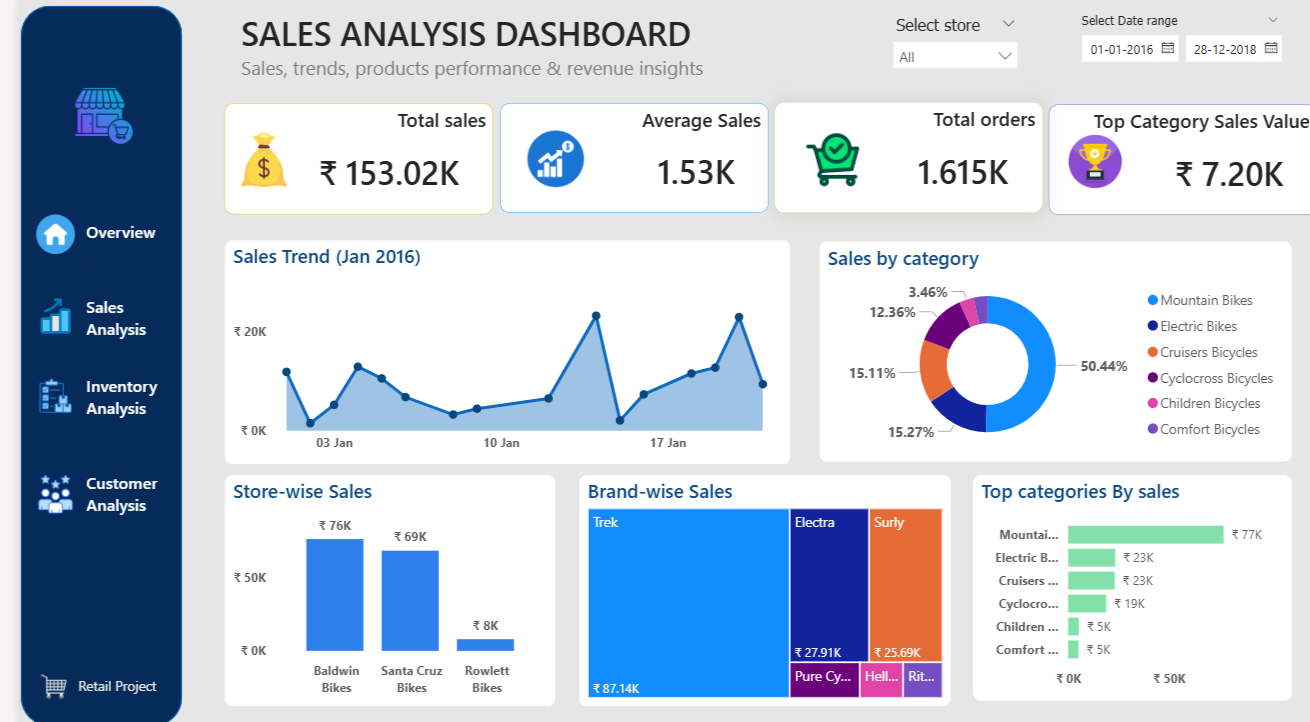

This screenshot's page, from the dashboard's own definition file:
{"tool":"powerbi","page":{"name":"Sales Analysis","canvas":[1280,720],"ordinal":1},"visuals":[{"type":"textbox","box":[211.6,11.6,482.5,87.7],"z":0},{"type":"slicer","fields":{"Values":["stores_clean.store_name"]},"box":[844.2,11.8,150,70],"z":1000},{"type":"shape","box":[0,11.6,158.7,708.3],"z":2000},{"type":"image","box":[9,216.7,50.3,38.7],"z":3000},{"type":"image","box":[8.6,297.3,50.3,40],"z":4000},{"type":"image","box":[9,375.4,50.3,38.7],"z":5000},{"type":"image","box":[8.6,472.3,50.3,38.7],"z":6000},{"type":"textbox","box":[59.3,216.7,99.3,314.8],"z":7000},{"type":"image","box":[51.6,89,60,62],"z":8000},{"type":"cardVisual","title":"Total sales","fields":{"Data":["Sum(order_items_clean.sales_amount)"]},"box":[200,107,264.5,109.7],"z":8000,"group":"g1"},{"type":"image","box":[211.6,122.6,55.5,81],"z":9000,"group":"g1"},{"type":"image","title":"Retail shop","box":[18.1,665.7,29.7,29.7],"z":9000},{"type":"textbox","box":[51.6,665.7,96.8,34.8],"z":10000},{"type":"slicer","title":"Filter by date","fields":{"Values":["orders_clean.order_date"]},"box":[1028.2,11.6,221.9,69.7],"z":11000},{"type":"cardVisual","title":"Average Sales","fields":{"Data":["brands_clean.Average Sales"]},"box":[470.8,107.1,264,108.4],"z":12000},{"type":"cardVisual","title":"Top Category Sales Value","fields":{"Data":["brands_clean.Top Category Sales"]},"box":[1010.2,108.4,264,109],"z":13000},{"type":"group","id":"g1","title":"Group 1","box":[200,107,264.5,109.7],"z":14000},{"type":"cardVisual","title":"Total orders","fields":{"Data":["CountNonNull(orders_clean.order_id)"]},"box":[740.6,105.8,264,109.7],"z":15000},{"type":"image","box":[767.7,122.6,61.4,81.3],"z":16000},{"type":"lineChart","title":"Sales Trend (Jan 2016)","fields":{"Y":["Sum(order_items_clean.sales_amount)"],"Category":["orders_clean.order_date"]},"box":[200,240.9,557.3,221.9],"z":17000},{"type":"donutChart","title":"Sales by category","fields":{"Category":["categories_clean.category_name"],"Y":["Sum(order_items_clean.sales_amount)"]},"box":[784.4,242.9,465.7,218],"z":18000},{"type":"clusteredColumnChart","title":"Store-wise Sales","fields":{"Category":["stores_clean.store_name"],"Y":["Sum(order_items_clean.sales_amount)"]},"box":[200,472.2,326.4,228.3],"z":19000},{"type":"treemap","title":"Brand-wise Sales","fields":{"Group":["brands_clean.brand_name"],"Values":["Sum(order_items_clean.sales_amount)"]},"box":[547.6,472.2,366.4,228.3],"z":20000},{"type":"clusteredBarChart","title":"Top categories By sales","fields":{"Category":["categories_clean.category_name"],"Y":["Sum(order_items_clean.sales_amount)"]},"box":[935.3,472.2,314.8,223.2],"z":21000},{"type":"image","box":[498,121.3,55.5,81.3],"z":22000},{"type":"image","box":[1028.2,123.9,55.5,81.3],"z":23000}]}

Visuals, with their boxes on the page's 1280x720 design canvas (x1, y1, x2, y2). These are canvas units, not pixel positions in the 1310x722 screenshot, which may show the page scaled, cropped or inside an application window:
textbox: bbox=[212, 12, 694, 99]
slicer - stores_clean.store_name: bbox=[844, 12, 994, 82]
shape: bbox=[0, 12, 159, 720]
image: bbox=[9, 217, 59, 255]
image: bbox=[9, 297, 59, 337]
image: bbox=[9, 375, 59, 414]
image: bbox=[9, 472, 59, 511]
textbox: bbox=[59, 217, 159, 532]
image: bbox=[52, 89, 112, 151]
"Total sales" cardVisual: bbox=[200, 107, 464, 217]
image: bbox=[212, 123, 267, 204]
"Retail shop" image: bbox=[18, 666, 48, 695]
textbox: bbox=[52, 666, 148, 700]
"Filter by date" slicer: bbox=[1028, 12, 1250, 81]
"Average Sales" cardVisual: bbox=[471, 107, 735, 216]
"Top Category Sales Value" cardVisual: bbox=[1010, 108, 1274, 217]
"Group 1" group: bbox=[200, 107, 464, 217]
"Total orders" cardVisual: bbox=[741, 106, 1005, 216]
image: bbox=[768, 123, 829, 204]
"Sales Trend (Jan 2016)" lineChart: bbox=[200, 241, 757, 463]
"Sales by category" donutChart: bbox=[784, 243, 1250, 461]
"Store-wise Sales" clusteredColumnChart: bbox=[200, 472, 526, 700]
"Brand-wise Sales" treemap: bbox=[548, 472, 914, 700]
"Top categories By sales" clusteredBarChart: bbox=[935, 472, 1250, 695]
image: bbox=[498, 121, 554, 203]
image: bbox=[1028, 124, 1084, 205]
